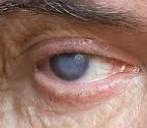eye: (50, 53, 90, 81)
